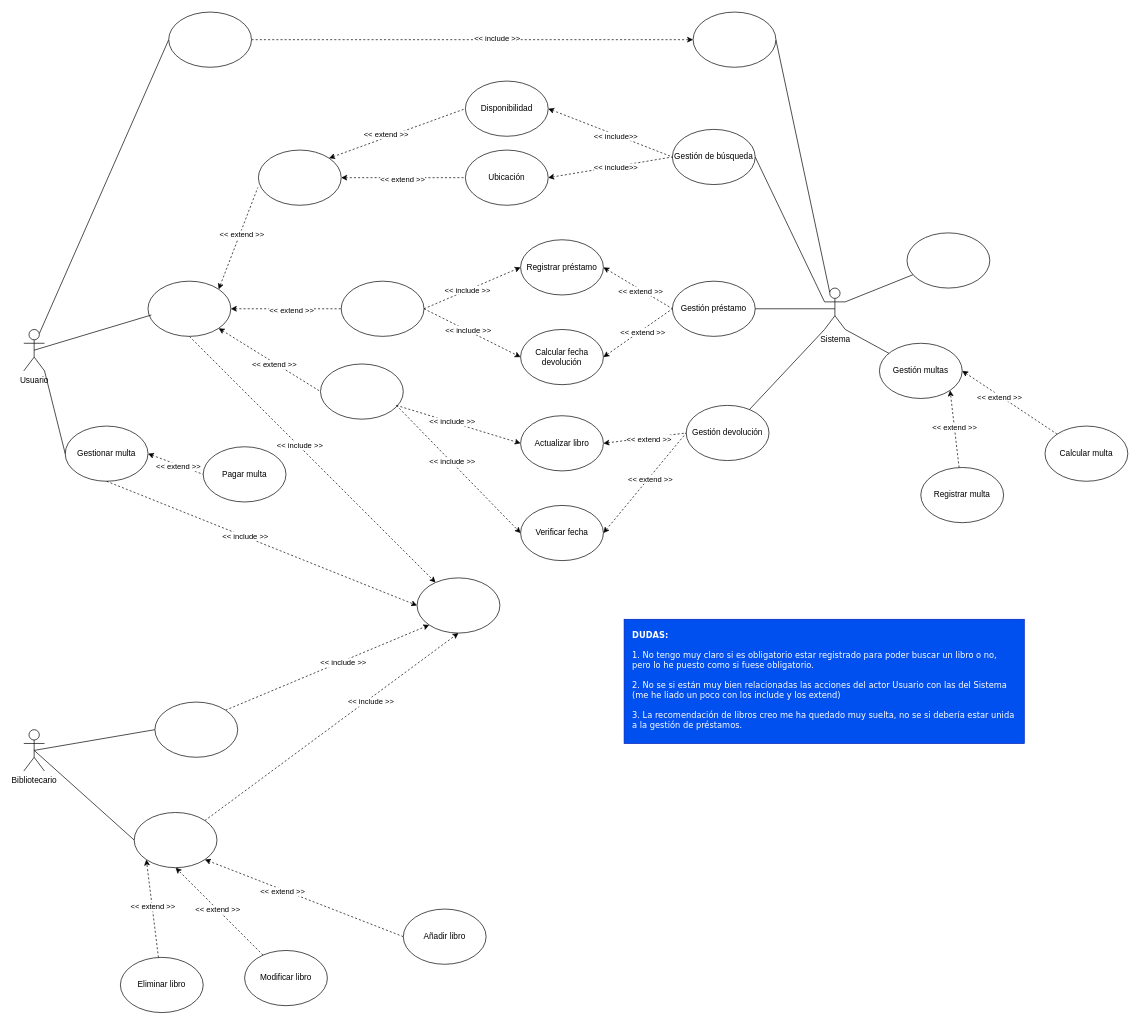
Image size: 1140x1025. Some labels were removed from this diagram. Each missing label, with the centre of its shape:
"Administración libro" belongs at pixel 175 840.
"Asignar nº identificación" belongs at pixel 734 39.
"Autenticazión" belongs at pixel 458 605.
"Buscar libro" belongs at pixel 299 177.
"Devolución libro" belongs at pixel 361 391.
"Generar reportes" belongs at pixel 196 729.
"Gestionar libro" belongs at pixel 189 308.
"Pedir préstamo libro" belongs at pixel 382 308.
"Recomendar libros" belongs at pixel 948 260.
"Registrarse" belongs at pixel 210 39.
